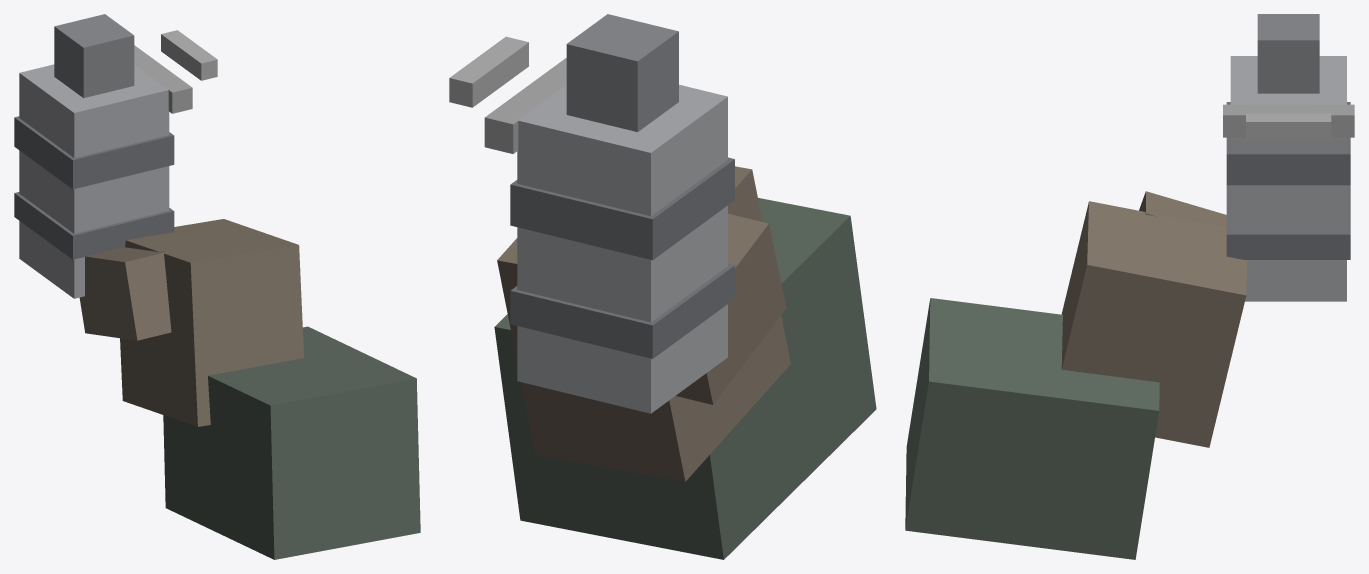
File: weapon_flashbang.glb
3 views of the same model, side by side, from view 1: azimuth 30°, elevation 25°; view 2: azimuth 150°, elevation 25°; view 3: azimuth 270°, elevation 25° (orthographic). The views are drawn at different scales.
Visible parts, largest first — view 1: weapon_flashbang_root; view 2: weapon_flashbang_root; view 3: weapon_flashbang_root.
Boxes of the visible parts, box(x1,y1,x2,y2) form: weapon_flashbang_root: box(14, 14, 420, 559); weapon_flashbang_root: box(449, 14, 876, 559); weapon_flashbang_root: box(905, 14, 1354, 559).
Bounding box in the file's own units: 0.1603 × 0.3258 × 0.2898.
